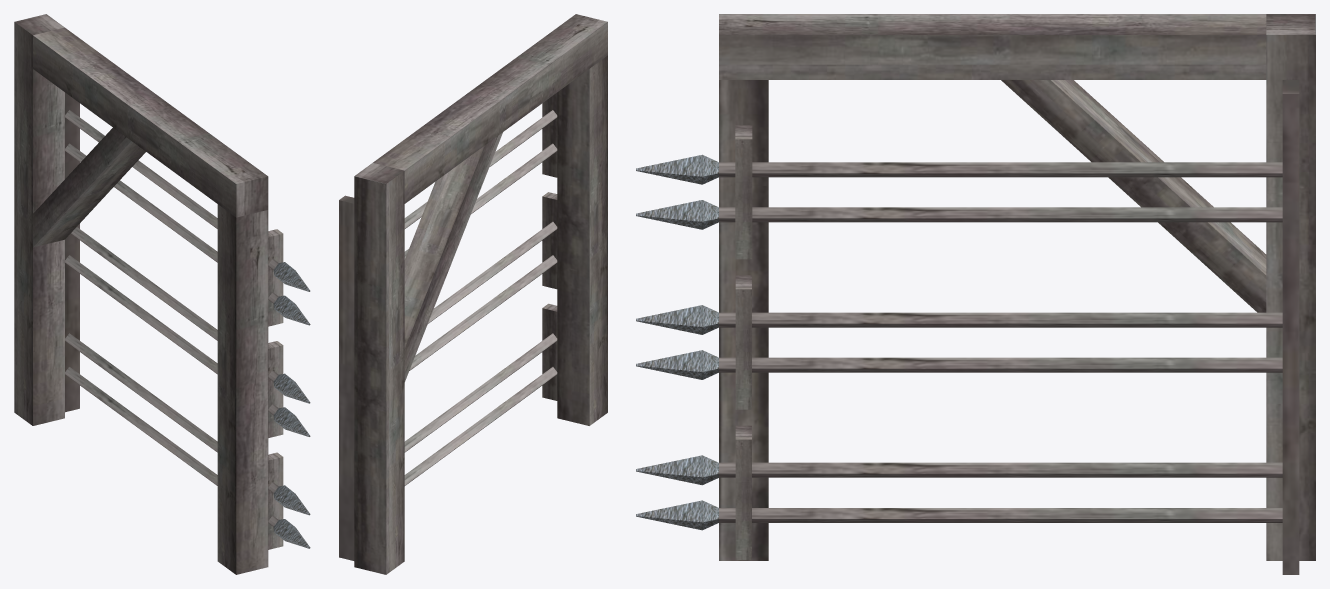
Rendered from SpearTrap.FBX.
3 views of the same model, side by side, from view 1: azimuth 30°, elevation 25°; view 2: azimuth 150°, elevation 25°; view 3: azimuth 270°, elevation 25° (orthographic). The views are drawn at different scales.
Visible parts, largest first — view 1: Box023, Box024; view 2: Box023, Box024; view 3: Box023, Box024.
Boxes of the visible parts, x1,y1,x2,y2 form: Box023: [14, 14, 283, 574]; Box024: [65, 92, 310, 548]; Box023: [354, 14, 607, 574]; Box024: [339, 110, 557, 560]; Box023: [719, 14, 1315, 560]; Box024: [636, 80, 1299, 574].
Size of the model in its own units: 25 by 175 by 205.
